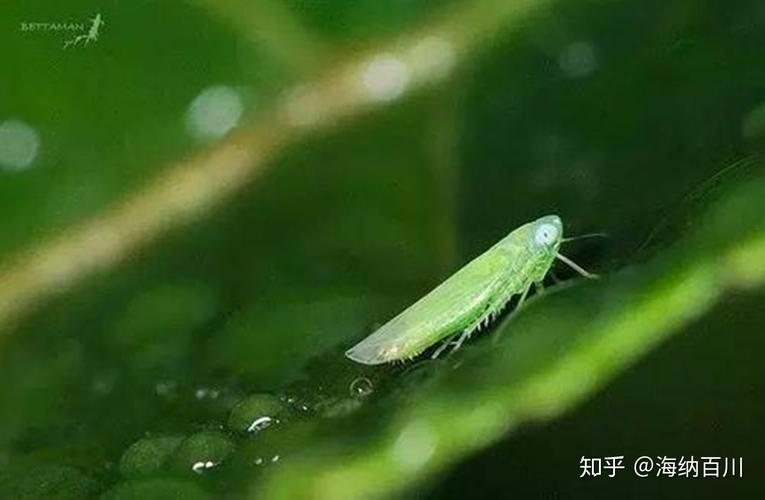Cicadellidae: (344, 214, 563, 365)
